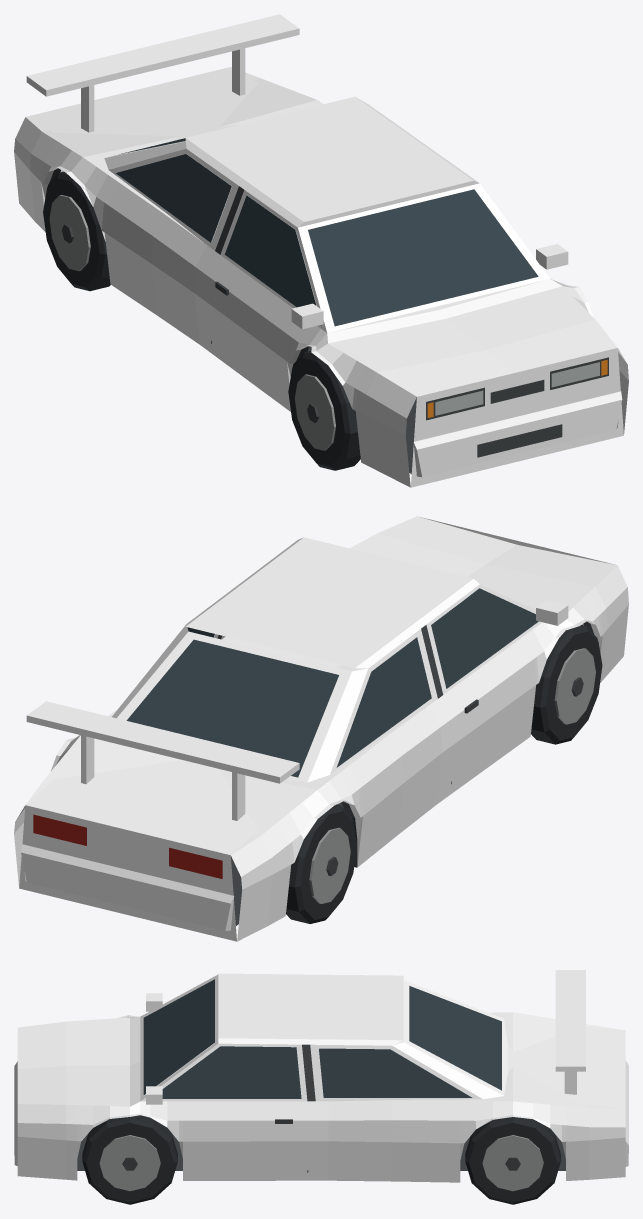
File: kestrin_prairie_hawk_corrida.glb
The picture shows the model from 3 angles, top to bottom: view 1: azimuth 30°, elevation 25°; view 2: azimuth 150°, elevation 25°; view 3: azimuth 270°, elevation 25°; orthographic projection. The views are drawn at different scales.
Visible parts, largest first — view 1: kestrin_prairie_hawk_corrida; view 2: kestrin_prairie_hawk_corrida; view 3: kestrin_prairie_hawk_corrida.
Boxes of the visible parts, x1,y1,x2,y2 form: kestrin_prairie_hawk_corrida: (14,14,628,487); kestrin_prairie_hawk_corrida: (14,516,628,941); kestrin_prairie_hawk_corrida: (14,970,628,1204).
Size of the model in its own units: 1.74 by 1.2 by 4.43.
8 materials, 1 textured.
